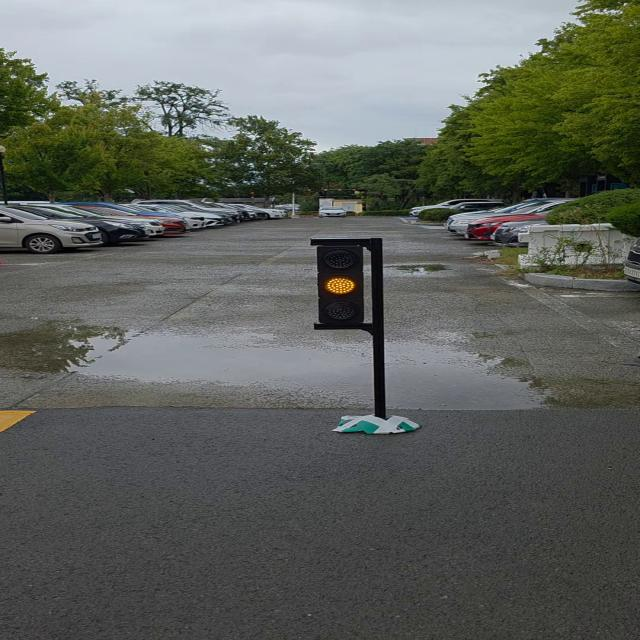yellow: (317, 238, 369, 328)
